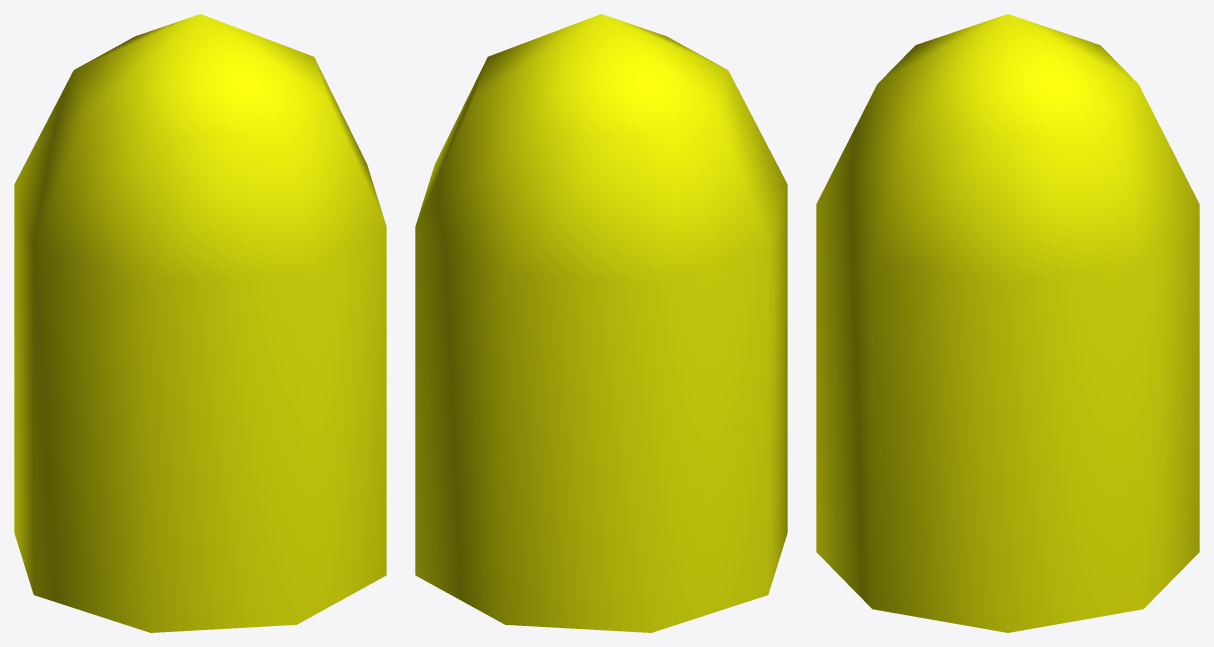
File: PlayerProjectile_Middle.fbx
The picture shows the model from 3 angles, left to right: view 1: azimuth 30°, elevation 25°; view 2: azimuth 150°, elevation 25°; view 3: azimuth 270°, elevation 25°; orthographic projection.
Visible parts, largest first — view 1: PlayerProjectile_Middle; view 2: PlayerProjectile_Middle; view 3: PlayerProjectile_Middle.
Part boxes in pixels (x1,y1,x2,y2): PlayerProjectile_Middle: (14,14,386,632); PlayerProjectile_Middle: (415,14,787,632); PlayerProjectile_Middle: (816,14,1199,632).
Size of the model in its own units: 72.59 by 112 by 72.59.
